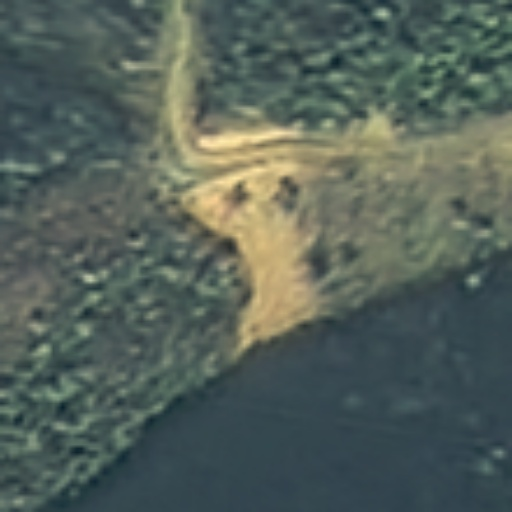landslide: (183, 158, 321, 339)
